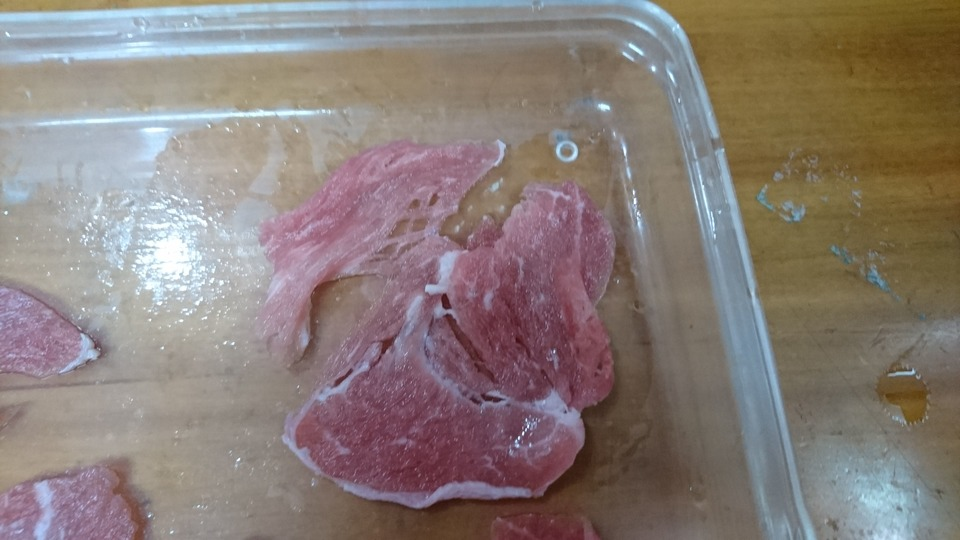restructured meat: (258, 142, 620, 499), (1, 242, 94, 438), (6, 466, 145, 540)
